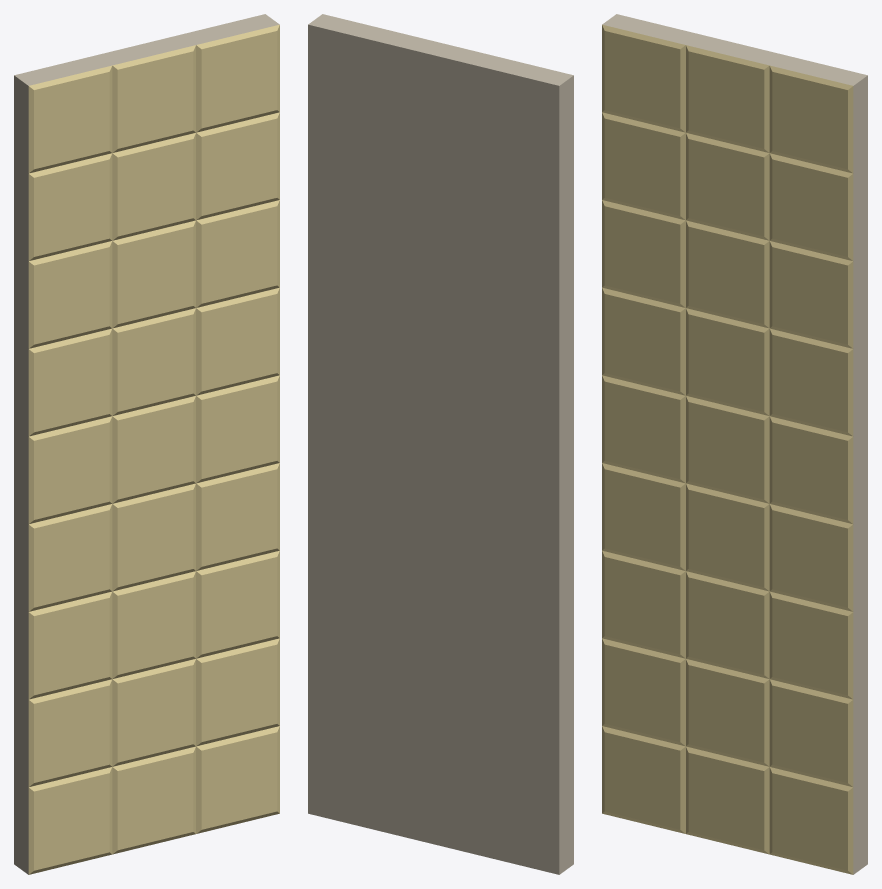
Rendered from Mesh_WallCeramic_B1.fbx.
The picture shows the model from 3 angles, left to right: view 1: azimuth 30°, elevation 25°; view 2: azimuth 150°, elevation 25°; view 3: azimuth 330°, elevation 25°; orthographic projection.
Parts seen in each view (by area): view 1: Mesh_WallCeramic_B1; view 2: Mesh_WallCeramic_B1; view 3: Mesh_WallCeramic_B1.
Boxes of the visible parts, bbox=[...] form: Mesh_WallCeramic_B1: bbox=[14, 14, 279, 874]; Mesh_WallCeramic_B1: bbox=[308, 14, 573, 874]; Mesh_WallCeramic_B1: bbox=[602, 14, 867, 874].
Size of the model in its own units: 1 by 3 by 0.1096.
